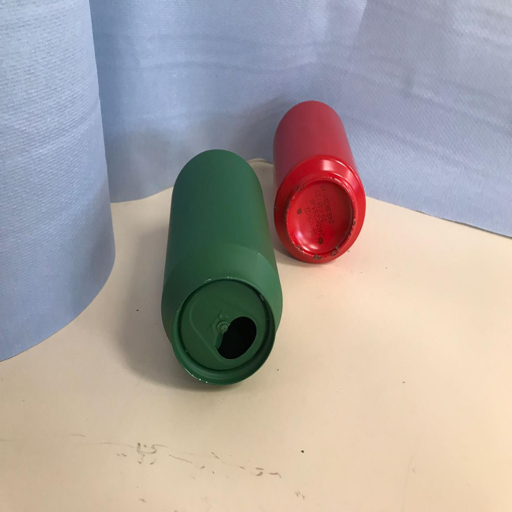Green_Can: (154, 145, 284, 390)
Red_Can: (267, 97, 367, 265)
